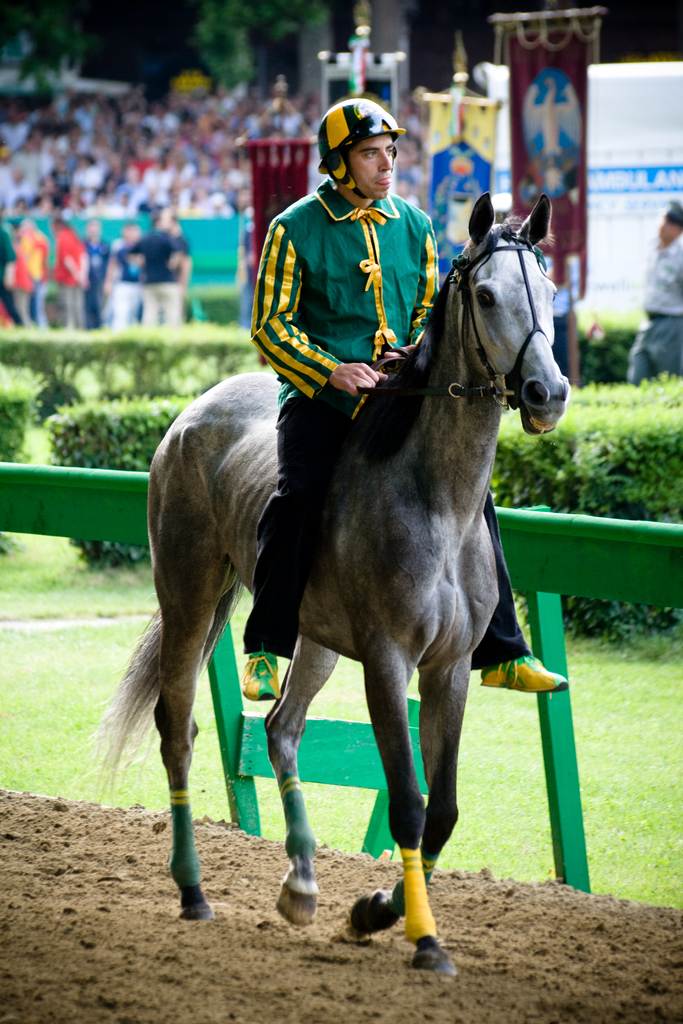horse: (74, 191, 570, 976)
